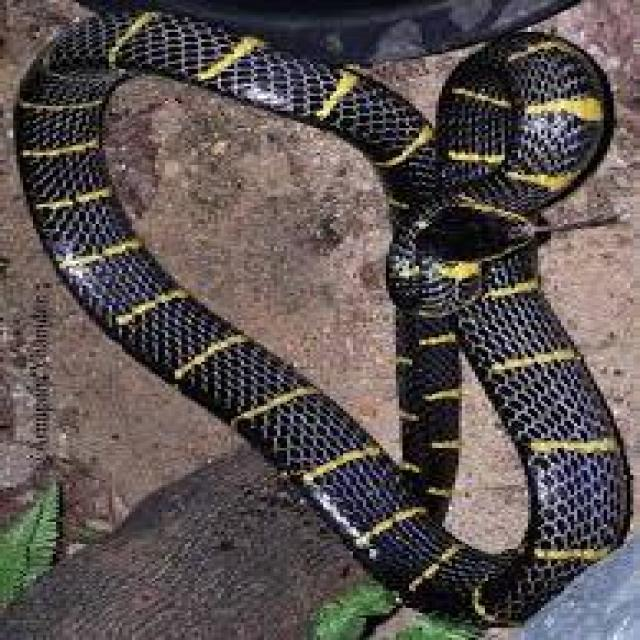Venomous: (390, 189, 545, 325)
